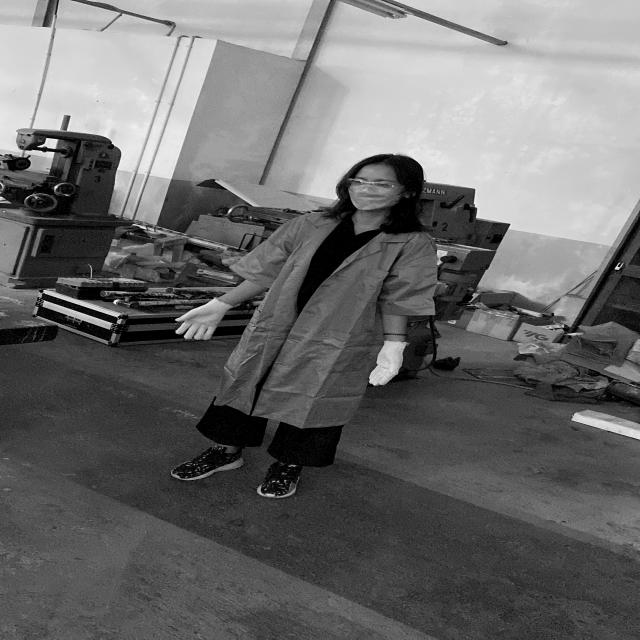face_mask: (339, 176, 404, 214)
glasses: (344, 176, 408, 192)
hand_glove: (169, 302, 226, 343), (363, 348, 405, 387)
head_nohelmet: (344, 150, 422, 176)
person: (157, 145, 443, 492)
shoes: (169, 439, 249, 481), (250, 452, 310, 502)
